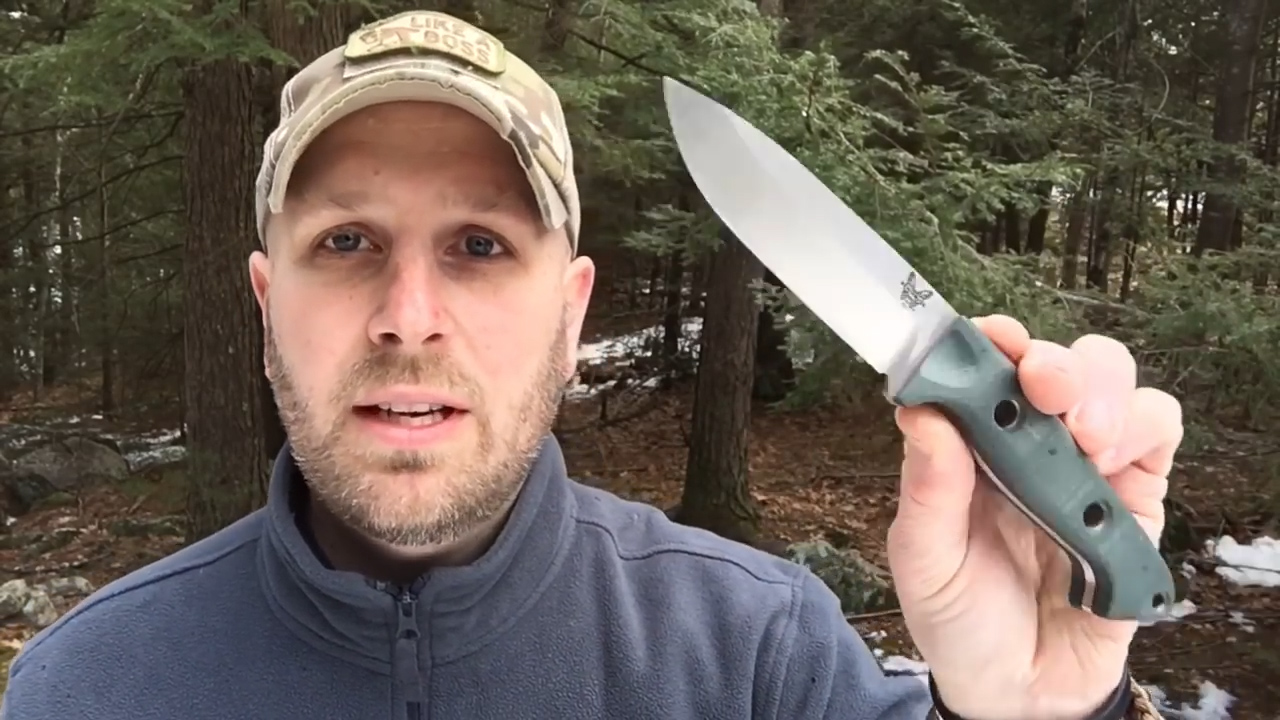knife: (654, 66, 1087, 533)
